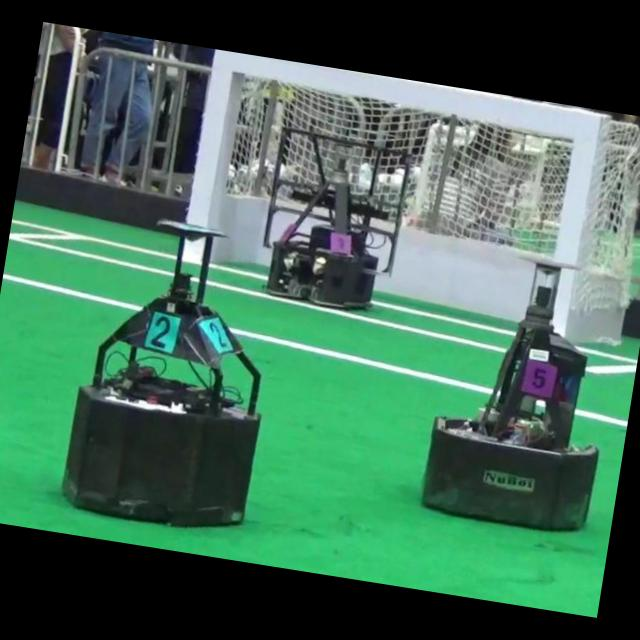goal: (552, 109, 606, 336), (186, 50, 234, 226)
robot: (62, 220, 262, 526), (422, 260, 599, 530), (263, 128, 411, 308)
